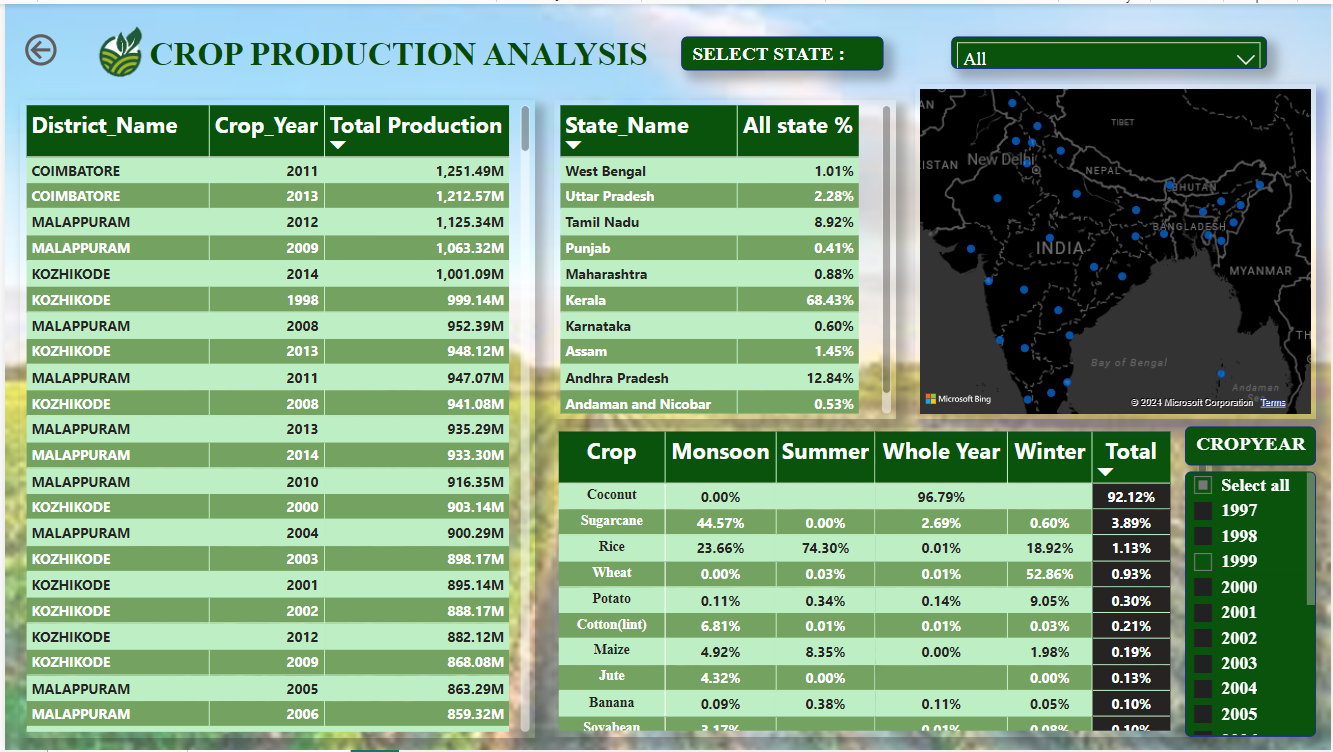

This screenshot's page, from the dashboard's own definition file:
{"tool":"powerbi","page":{"name":"DETAIED_SUMM","canvas":[1280,720],"ordinal":1},"visuals":[{"type":"tableEx","title":"Detailed Production","fields":{"Values":["Crop Production data.District_Name","Crop Production data.Crop_Year","Measure Table.Total Production"]},"box":[14.9,92.5,497,614.9],"z":0},{"type":"slicer","fields":{"Values":["Crop Production data.State_Name"]},"box":[913.3,31.1,304.4,31.1],"z":1000},{"type":"group","id":"g1","title":"Group 1","box":[14.5,0,617.7,92.9],"z":2000},{"type":"textbox","box":[652.7,31.4,195.4,32.6],"z":3000},{"type":"actionButton","box":[14.5,24.5,41.8,40.3],"z":4000,"group":"g1"},{"type":"pivotTable","title":"Detailed Production","fields":{"Rows":["Crop Production data.Crop"],"Columns":["Crop Production data.Yearly_Season"],"Values":["Measure Table.All crop %"]},"box":[530,407.8,635.6,298.9],"z":4000},{"type":"tableEx","title":"Detailed Production","fields":{"Values":["Crop Production data.State_Name","Measure Table.All state %"]},"box":[529.6,92.9,330.6,307.6],"z":5000},{"type":"textbox","box":[128.3,7.2,504,77.8],"z":6000,"group":"g1"},{"type":"map","fields":{"Category":["Crop Production data.State Hierarchy.State_Name","Crop Production data.State Hierarchy.District_Name"]},"box":[878.3,77.2,387.3,323.3],"z":6000},{"type":"textbox","box":[1139.3,408.2,126.2,37.7],"z":7000},{"type":"slicer","fields":{"Values":["Crop Production data.Crop_Year"]},"box":[1138.9,451.2,126.7,255.8],"z":8000},{"type":"image","box":[56.3,0,109.4,92.2],"z":11001,"group":"g1"}]}

Visuals, with their boxes in screenshot pixels (x1, y1, x2, y2), scaled from the page's 1280x720 canvas onto the 1333x752 screenshot:
"Detailed Production" tableEx: <box>16,97,533,739</box>
slicer - Crop Production data.State_Name: <box>951,32,1268,65</box>
"Group 1" group: <box>15,0,658,97</box>
textbox: <box>680,33,883,67</box>
actionButton: <box>15,26,59,68</box>
"Detailed Production" pivotTable: <box>552,426,1214,738</box>
"Detailed Production" tableEx: <box>552,97,896,418</box>
textbox: <box>134,8,658,89</box>
map - Crop Production data.State Hierarchy.State_Name x Crop Production data.State Hierarchy.District_Name: <box>915,81,1318,418</box>
textbox: <box>1186,426,1318,466</box>
slicer - Crop Production data.Crop_Year: <box>1186,471,1318,738</box>
image: <box>59,0,173,96</box>
